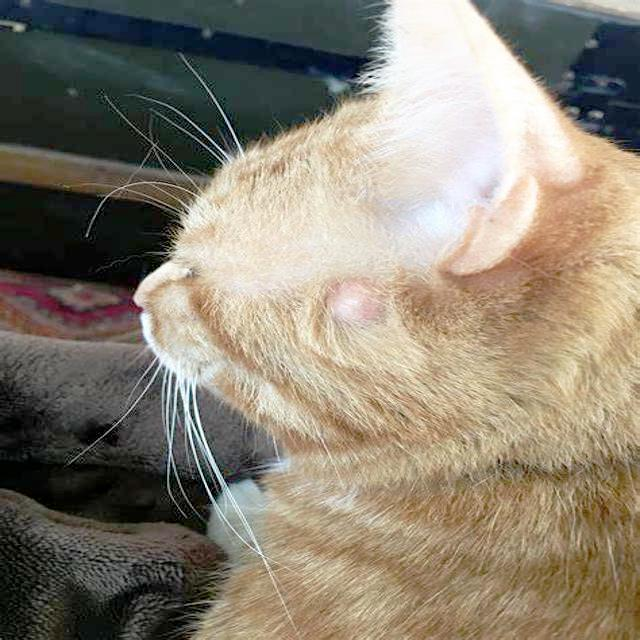lump_and_bump: (327, 272, 389, 334)
